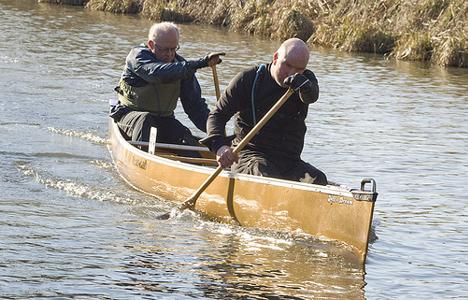person: (207, 39, 331, 189)
